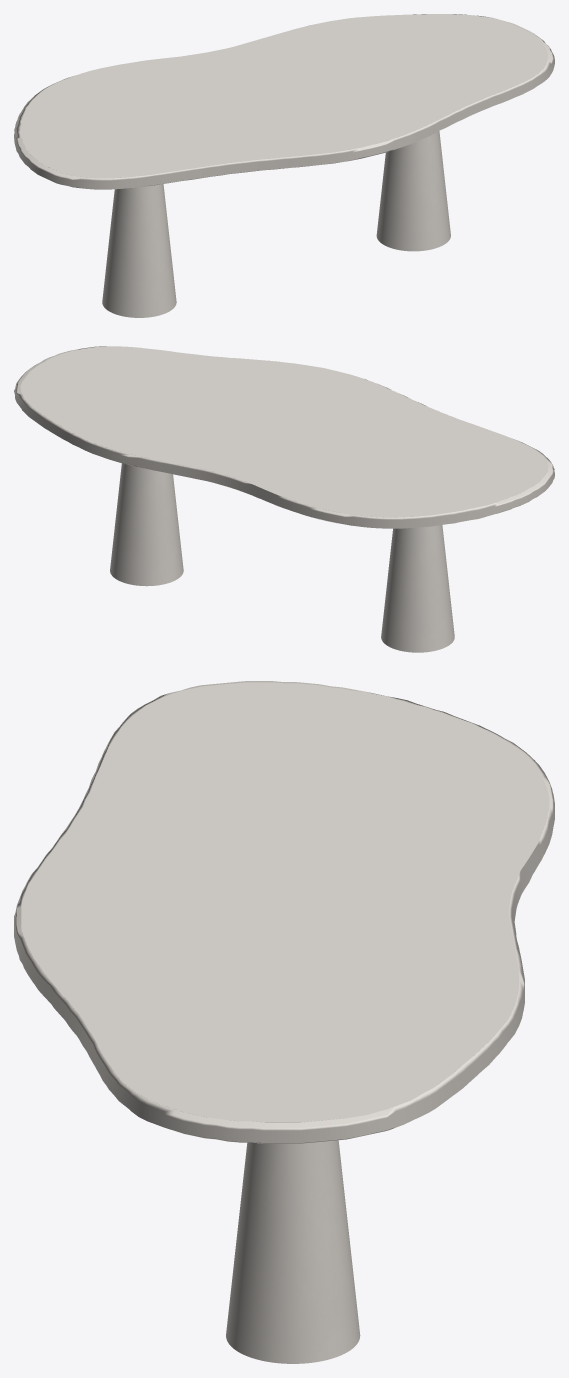
File: pearlwhite_toplast_round_pebble.glb
3 renders of one model, top to bottom at view 1: azimuth 30°, elevation 25°; view 2: azimuth 150°, elevation 25°; view 3: azimuth 270°, elevation 25°, orthographic. The views are drawn at different scales.
Visible parts, largest first — view 1: round_toplast, pebble; view 2: round_toplast, pebble; view 3: round_toplast, pebble.
Part boxes in pixels (left/top/right/bottom): round_toplast: left=14, top=14, right=554, bottom=189; pebble: left=102, top=131, right=450, bottom=317; round_toplast: left=14, top=346, right=554, bottom=528; pebble: left=110, top=463, right=454, bottom=652; round_toplast: left=14, top=681, right=554, bottom=1143; pebble: left=226, top=1140, right=360, bottom=1363.
Bounding box in the file's own units: 7.68 × 2.5 × 3.89.
1 material, 1 textured.
